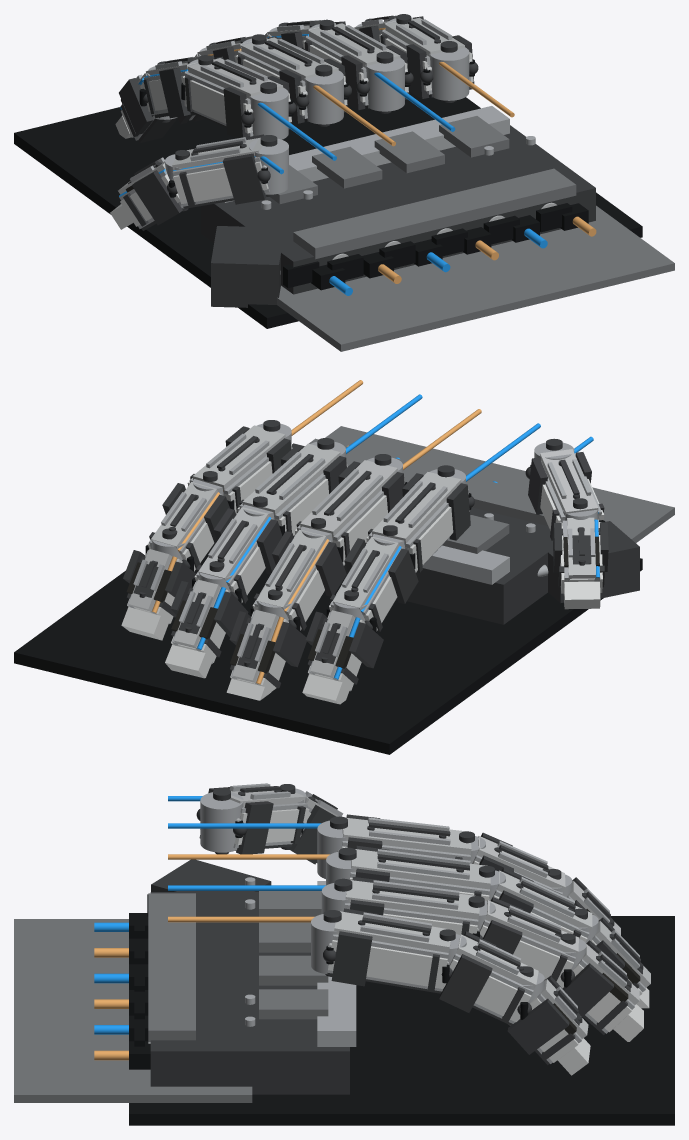
File: optimus_finger_actuator_concept_assembly.glb
The picture shows the model from 3 angles, top to bottom: view 1: azimuth 30°, elevation 25°; view 2: azimuth 150°, elevation 25°; view 3: azimuth 270°, elevation 25°; orthographic projection. The views are drawn at different scales.
Visible parts, largest first — view 1: =>[0:1:1:7], =>[0:1:1:5], =>[0:1:1:10], =>[0:1:1:14], =>[0:1:1:16], =>[0:1:1:12], =>[0:1:1:56], =>[0:1:1:58], =>[0:1:1:60], =>[0:1:1:519], =>[0:1:1:391], =>[0:1:1:263] (+34 smaller); view 2: =>[0:1:1:5], =>[0:1:1:10], =>[0:1:1:7], =>[0:1:1:14], =>[0:1:1:16], =>[0:1:1:12], =>[0:1:1:193], =>[0:1:1:321], =>[0:1:1:65], =>[0:1:1:449], =>[0:1:1:217], =>[0:1:1:577] (+33 smaller); view 3: =>[0:1:1:5], =>[0:1:1:7], =>[0:1:1:10], =>[0:1:1:14], =>[0:1:1:12], =>[0:1:1:16], =>[0:1:1:447], =>[0:1:1:60], =>[0:1:1:623], =>[0:1:1:193], =>[0:1:1:58], =>[0:1:1:565] (+44 smaller).
Boxes of the visible parts, x1,y1,x2,y2 form: =>[0:1:1:7]: [277, 205, 674, 351]; =>[0:1:1:5]: [14, 90, 642, 328]; =>[0:1:1:10]: [201, 125, 595, 294]; =>[0:1:1:14]: [293, 168, 576, 259]; =>[0:1:1:16]: [211, 226, 284, 307]; =>[0:1:1:12]: [224, 106, 509, 202]; =>[0:1:1:56]: [312, 146, 382, 188]; =>[0:1:1:58]: [374, 131, 444, 173]; =>[0:1:1:60]: [439, 116, 509, 157]; =>[0:1:1:519]: [429, 47, 469, 100]; =>[0:1:1:391]: [365, 58, 404, 111]; =>[0:1:1:263]: [304, 70, 343, 124]; =>[0:1:1:5]: [14, 553, 642, 754]; =>[0:1:1:10]: [208, 443, 552, 624]; =>[0:1:1:7]: [325, 426, 674, 542]; =>[0:1:1:14]: [309, 438, 547, 525]; =>[0:1:1:16]: [531, 521, 639, 602]; =>[0:1:1:12]: [422, 545, 509, 584]; =>[0:1:1:193]: [300, 460, 397, 538]; =>[0:1:1:321]: [242, 443, 340, 516]; =>[0:1:1:65]: [372, 472, 461, 545]; =>[0:1:1:449]: [192, 425, 285, 491]; =>[0:1:1:217]: [256, 529, 326, 609]; =>[0:1:1:577]: [540, 449, 598, 517]; =>[0:1:1:5]: [129, 916, 674, 1125]; =>[0:1:1:7]: [14, 919, 252, 1102]; =>[0:1:1:10]: [150, 892, 349, 1094]; =>[0:1:1:14]: [148, 893, 195, 1042]; =>[0:1:1:12]: [317, 881, 356, 1046]; =>[0:1:1:16]: [151, 859, 271, 906]; =>[0:1:1:447]: [328, 940, 447, 988]; =>[0:1:1:60]: [259, 989, 328, 1019]; =>[0:1:1:623]: [200, 792, 243, 852]; =>[0:1:1:193]: [351, 849, 490, 889]; =>[0:1:1:58]: [259, 955, 328, 985]; =>[0:1:1:565]: [507, 998, 569, 1054].
Bounding box in the file's own units: 0.249 × 0.0839 × 0.305.
